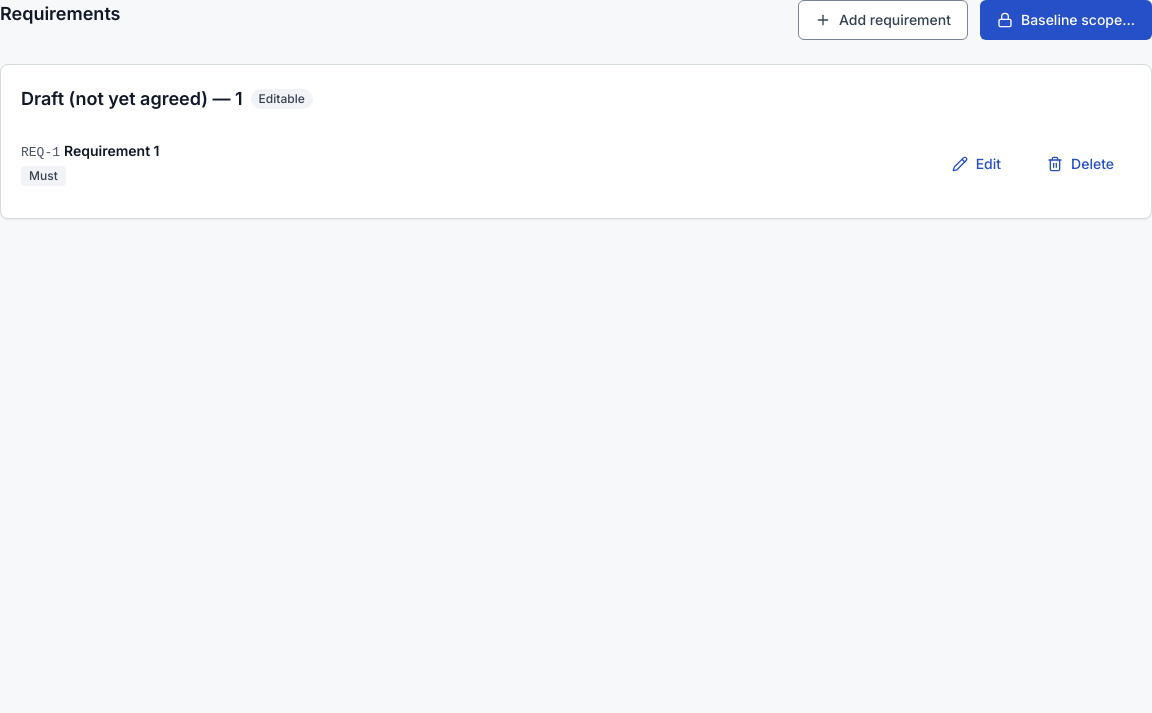
S-05 RequirementsBoard (FR-012, FR-013) › CT-REQ-07 AC-007.2 a 409 BASELINE_LOCKED from the server is explained
The image size is (1152, 713).
Click the button with aria-label "Edit REQ-1". click: point(976, 164)
box: x1=935 y1=144 x2=1018 y2=184
(page scrolled)
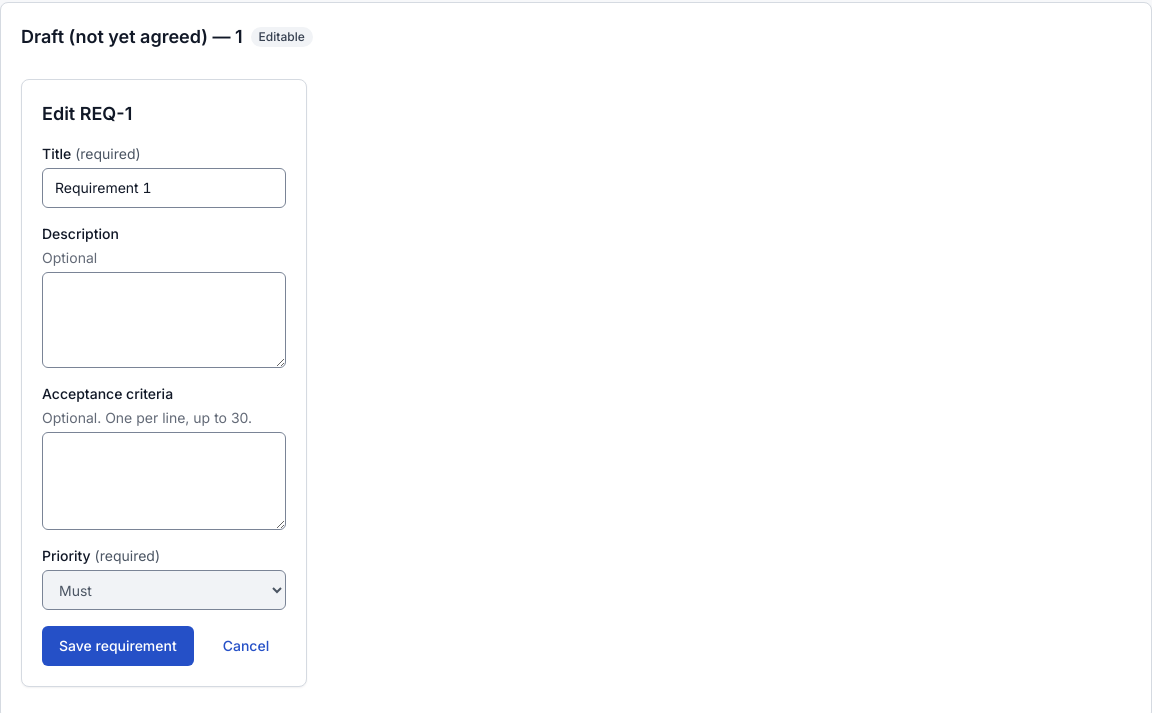
Click the button "Save requirement". click: point(118, 646)
box: x1=42 y1=626 x2=194 y2=666
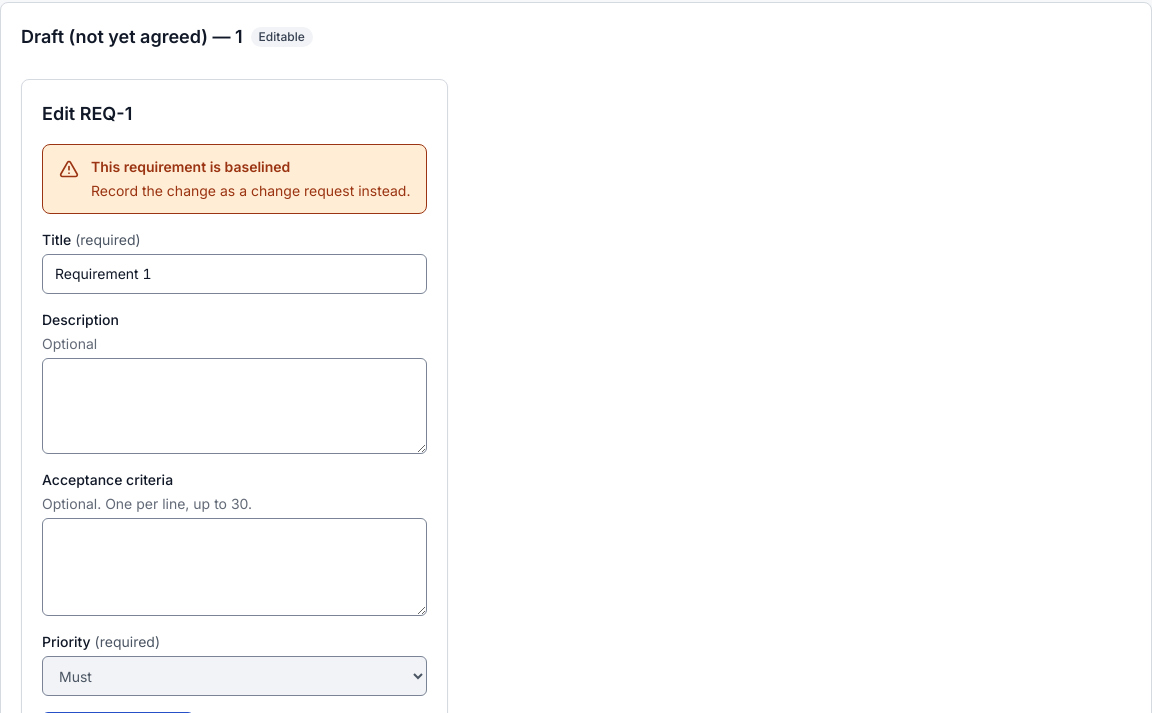
Expected: the text "This requirement is baselined" is shown, x1=91 y1=158 x2=290 y2=175
Expected: the text "Record the change as a change request instead." is shown, x1=91 y1=181 x2=410 y2=201
